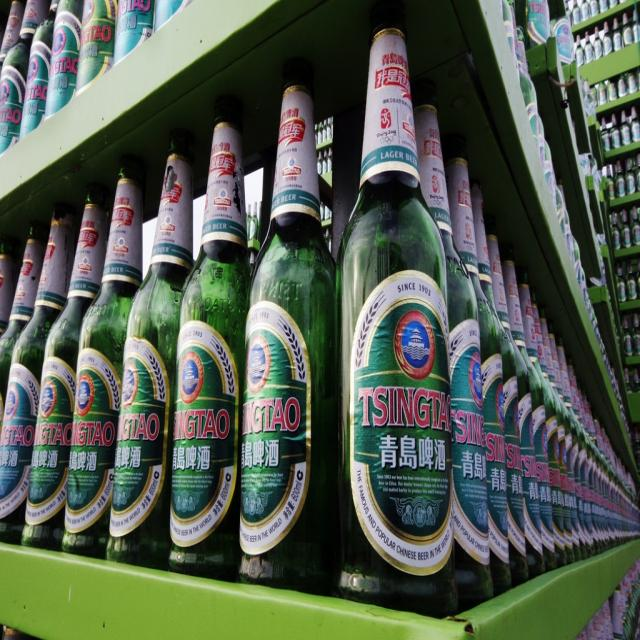tsingtao: (347, 272, 456, 577), (241, 301, 313, 556), (170, 321, 241, 549), (111, 335, 172, 538), (65, 348, 122, 535), (450, 320, 491, 567), (26, 360, 76, 527), (482, 355, 511, 565), (2, 360, 40, 520), (44, 12, 82, 121), (75, 2, 118, 98), (19, 42, 50, 140), (2, 68, 25, 154), (526, 2, 551, 45), (554, 20, 577, 63)
